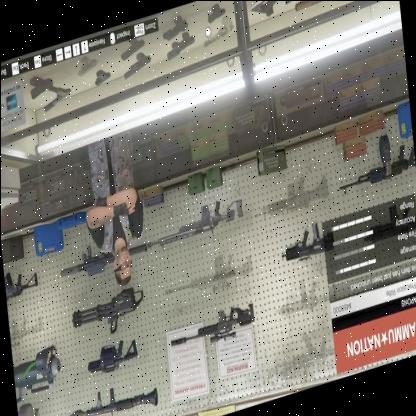rifle: (144, 188, 244, 252), (168, 298, 256, 360), (280, 219, 325, 270)
